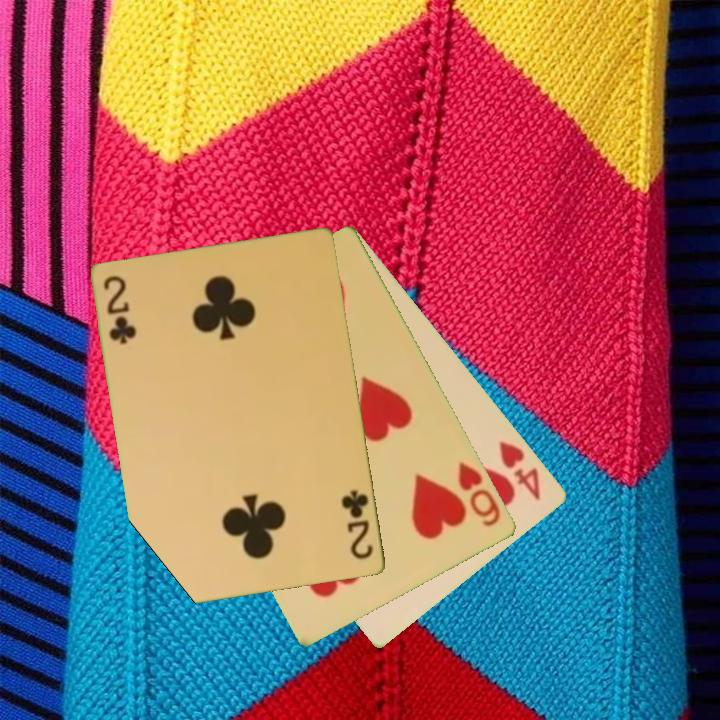2c: (338, 487, 377, 563), (100, 272, 138, 348)
4h: (496, 437, 544, 503)
6h: (455, 458, 504, 530)
